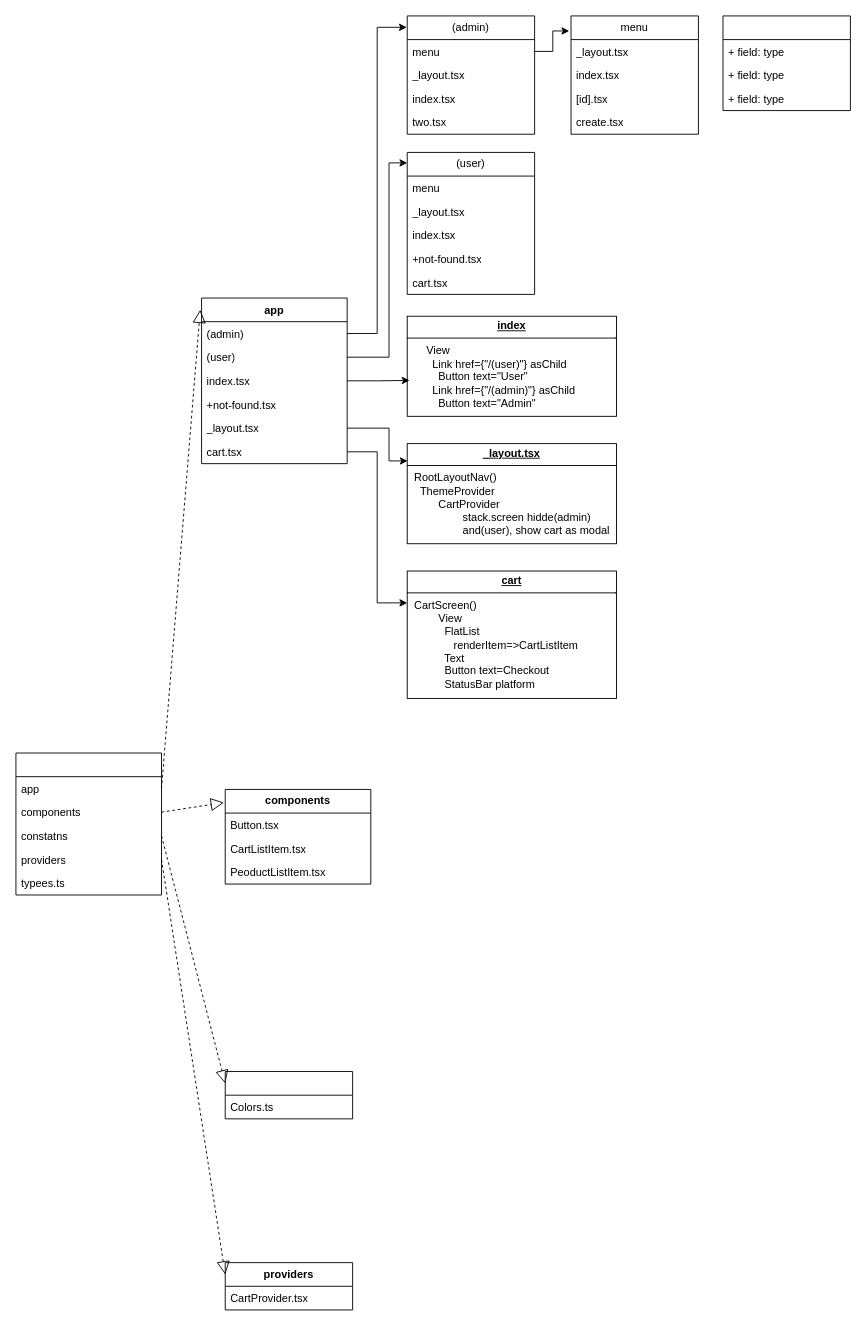
This 866x1329 diagram has some shape labels left out. The shapes that lost their labels are listed below. From the top down, each one's box as (x1, y1, x2, y2) in pixels, then its label:
(722, 15, 850, 111): Classname
(15, 752, 162, 895): SRC
(224, 1071, 353, 1119): constants
